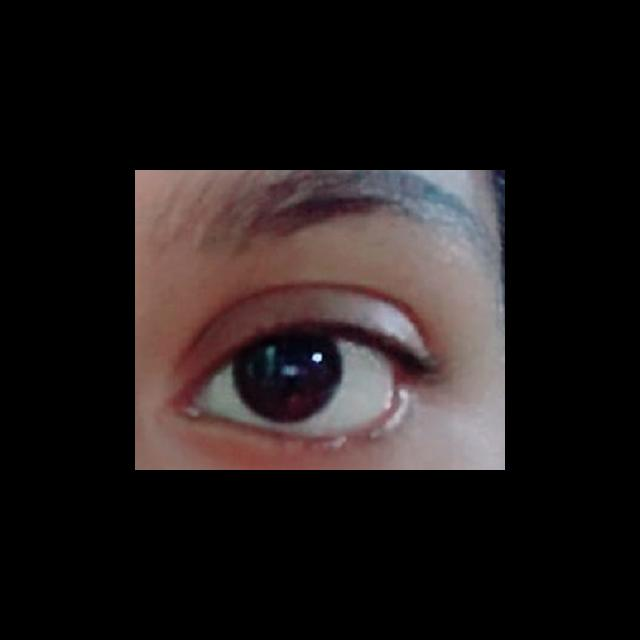eye: (190, 330, 397, 438)
iris: (232, 334, 344, 423)
